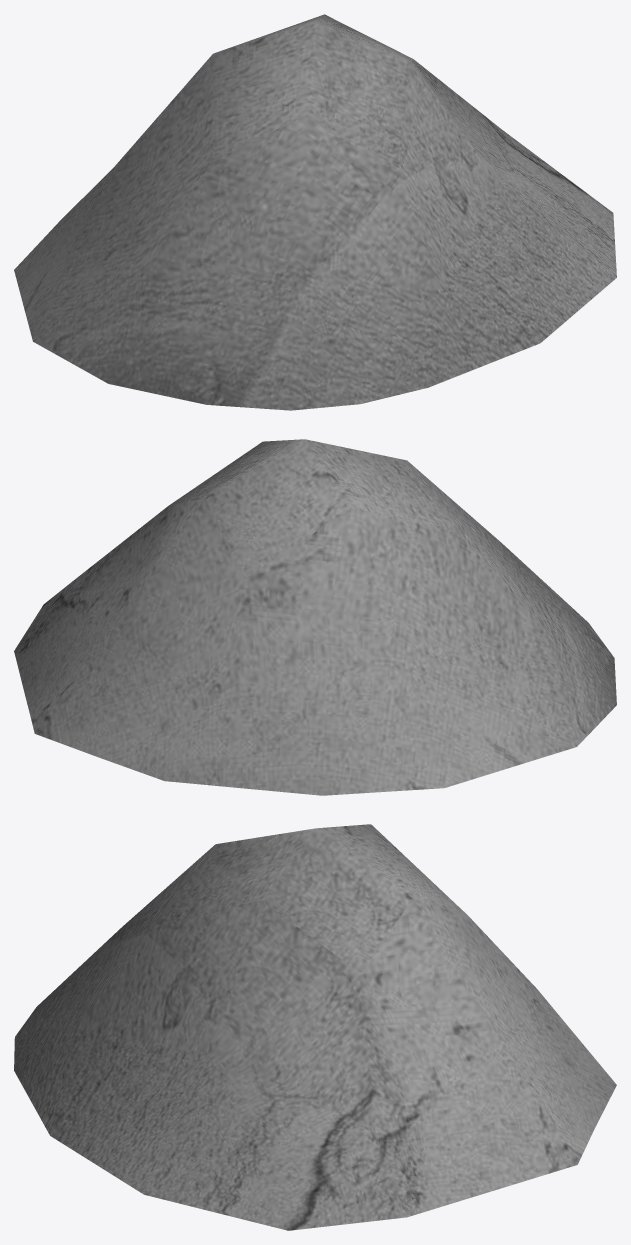
The model's file is 混凝土.FBX.
3 renders of one model, top to bottom at view 1: azimuth 30°, elevation 25°; view 2: azimuth 150°, elevation 25°; view 3: azimuth 270°, elevation 25°, orthographic. The views are drawn at different scales.
Visible parts, largest first — view 1: shizi_pPlane1; view 2: shizi_pPlane1; view 3: shizi_pPlane1.
Part boxes in pixels (x1,y1,x2,y2): shizi_pPlane1: (14,14,616,410); shizi_pPlane1: (14,439,616,795); shizi_pPlane1: (14,824,616,1230).
Bounding box in the file's own units: 19.01 × 8.14 × 16.94.
1 material, 1 textured.
